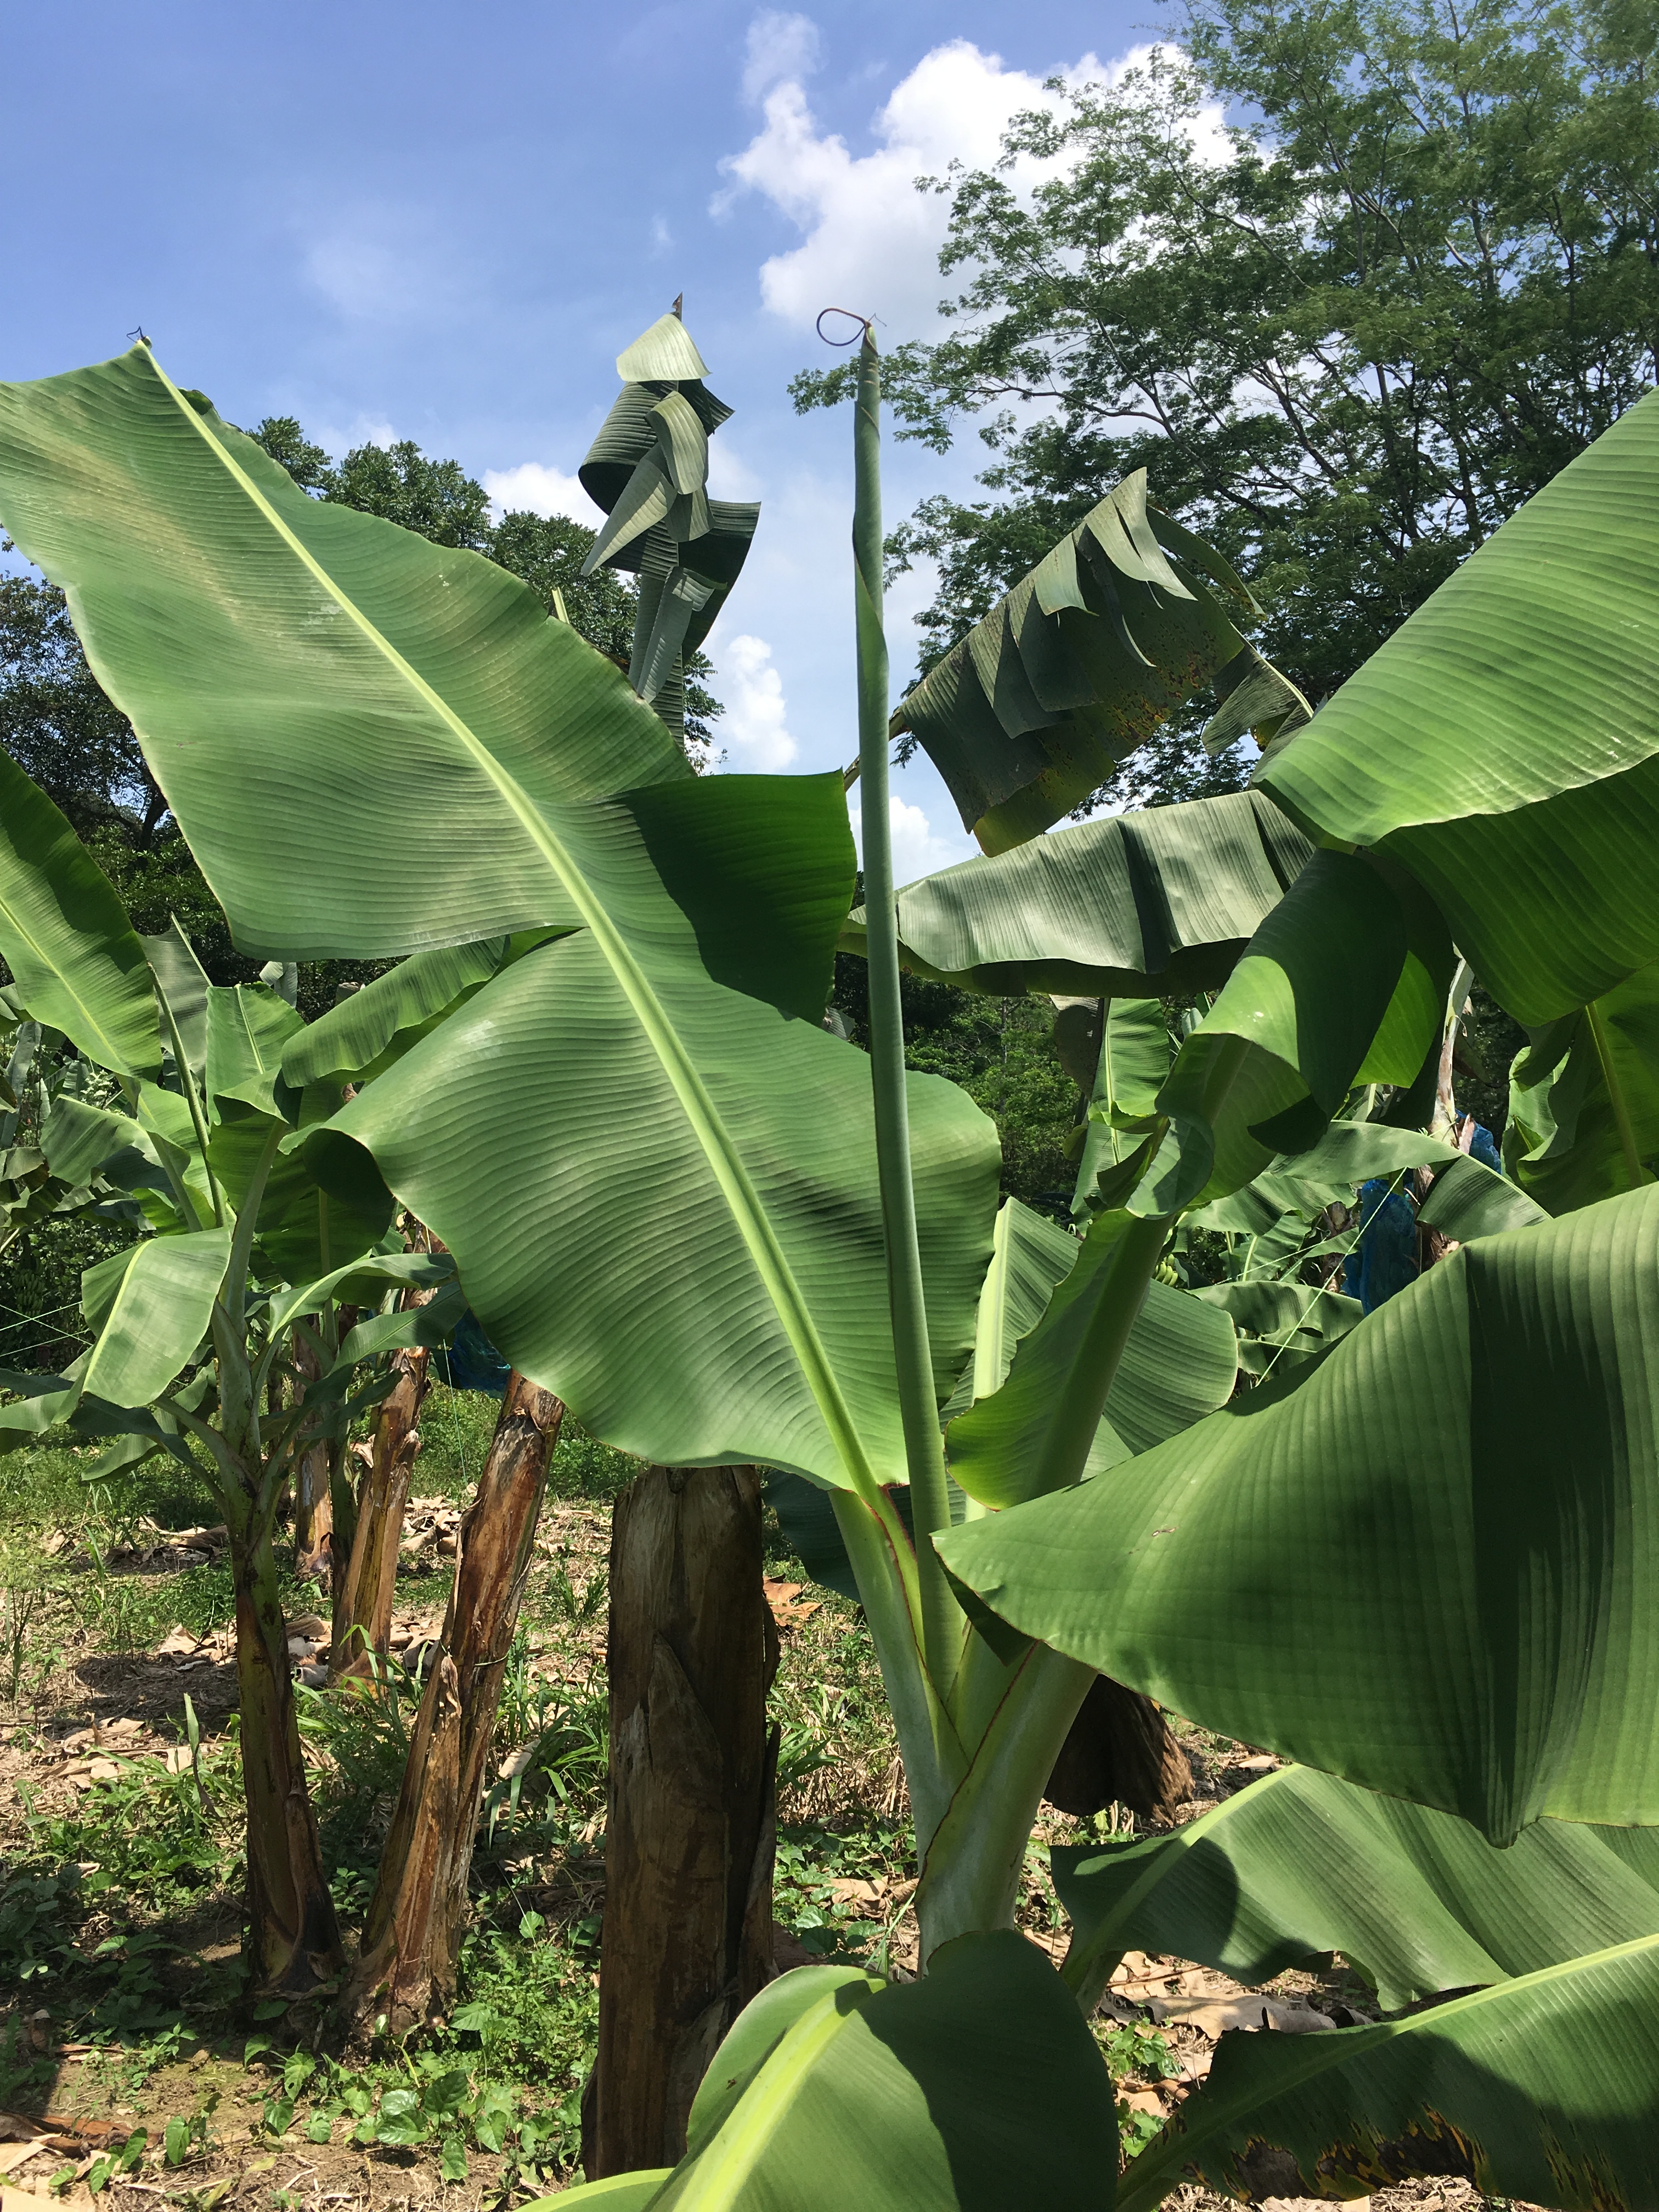candleleafs: (816, 307, 964, 1691), (145, 960, 227, 1224)
